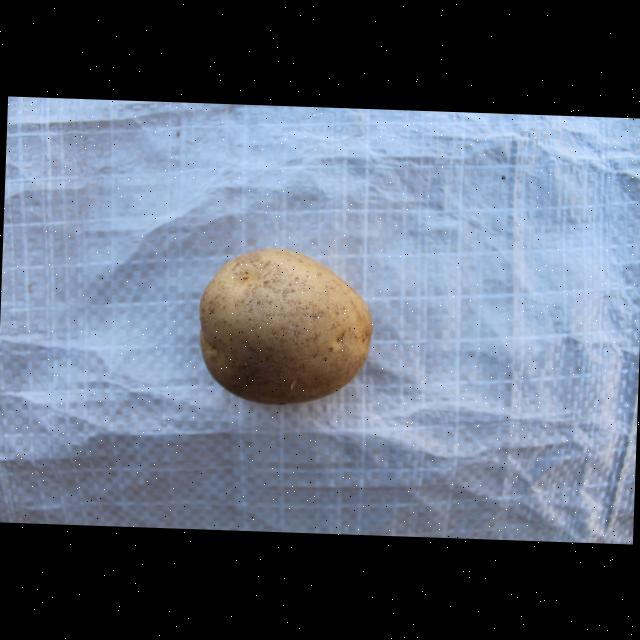Diseased-fungal potato: (194, 242, 381, 412)
